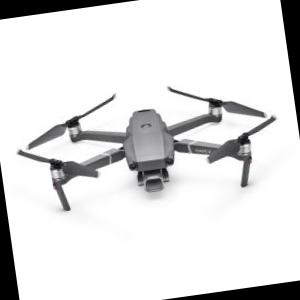drone: (5, 50, 297, 229)
